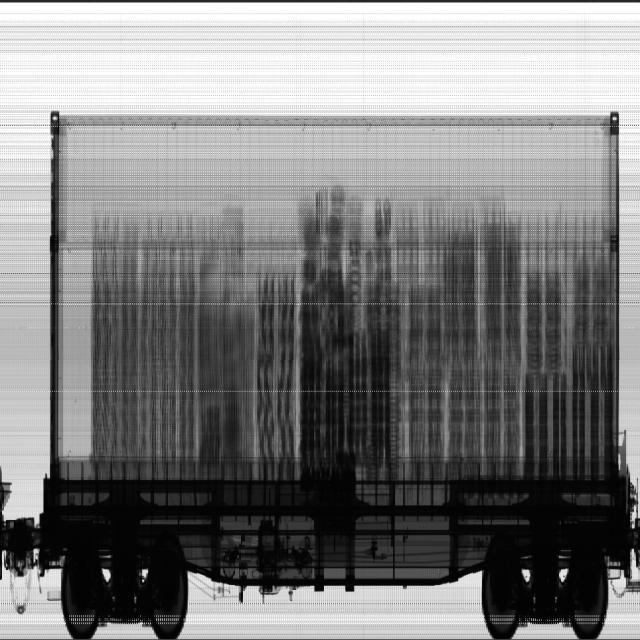textiles: (296, 187, 523, 388)
